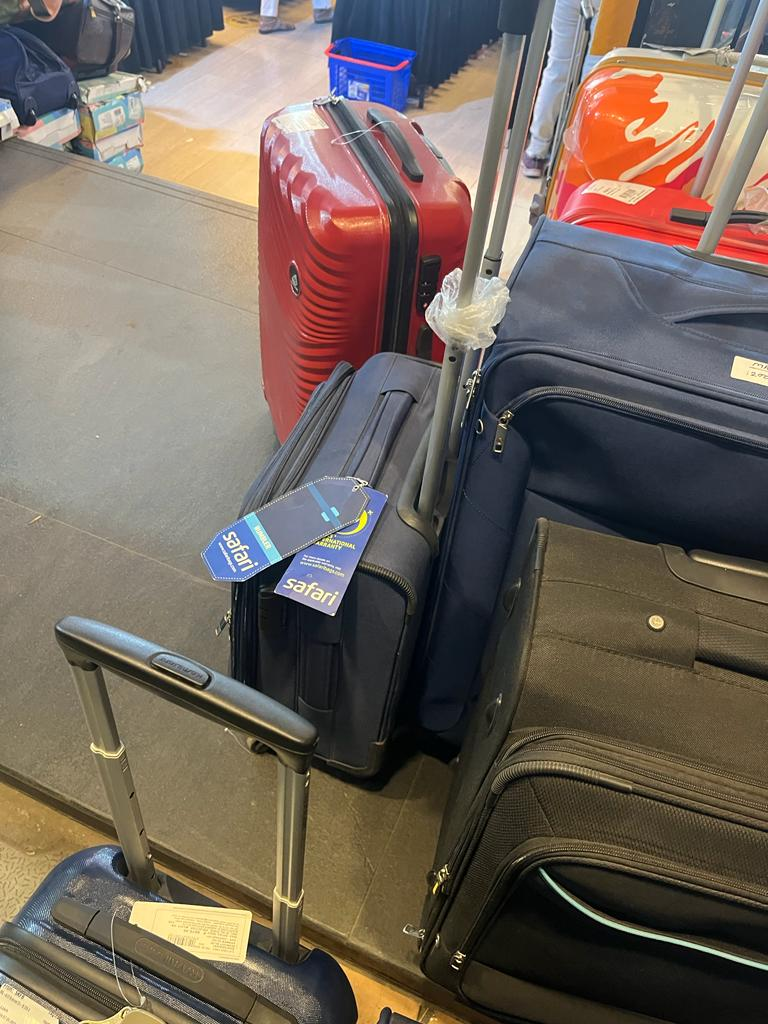Bag: (439, 530, 768, 1024), (4, 599, 370, 1024), (232, 303, 475, 766), (501, 215, 768, 594), (226, 84, 468, 390)
Handle: (24, 592, 341, 976), (405, 0, 544, 539), (690, 3, 768, 249)
